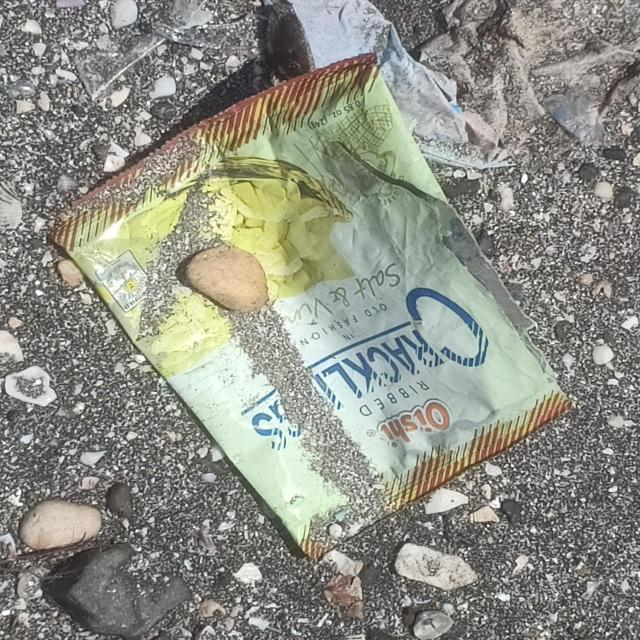plastic_waste: (48, 53, 573, 565)
